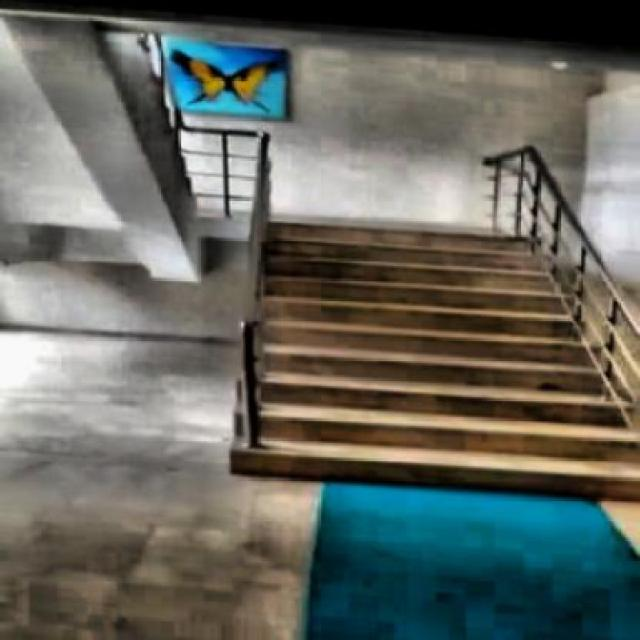stair: (231, 203, 638, 491)
